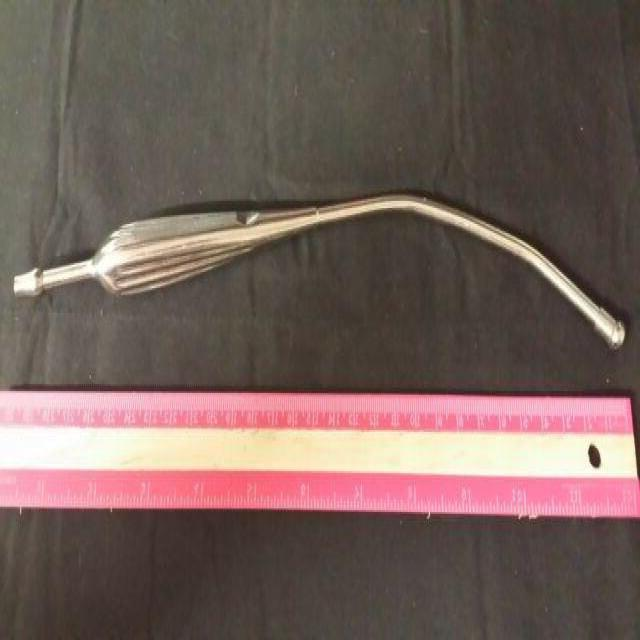Yankauer: (10, 186, 631, 360)
